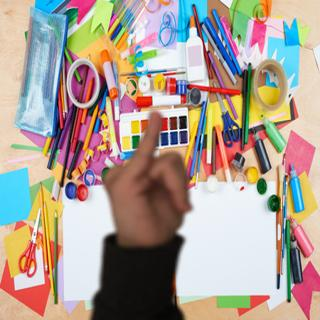HAVE: (95, 107, 202, 247)
